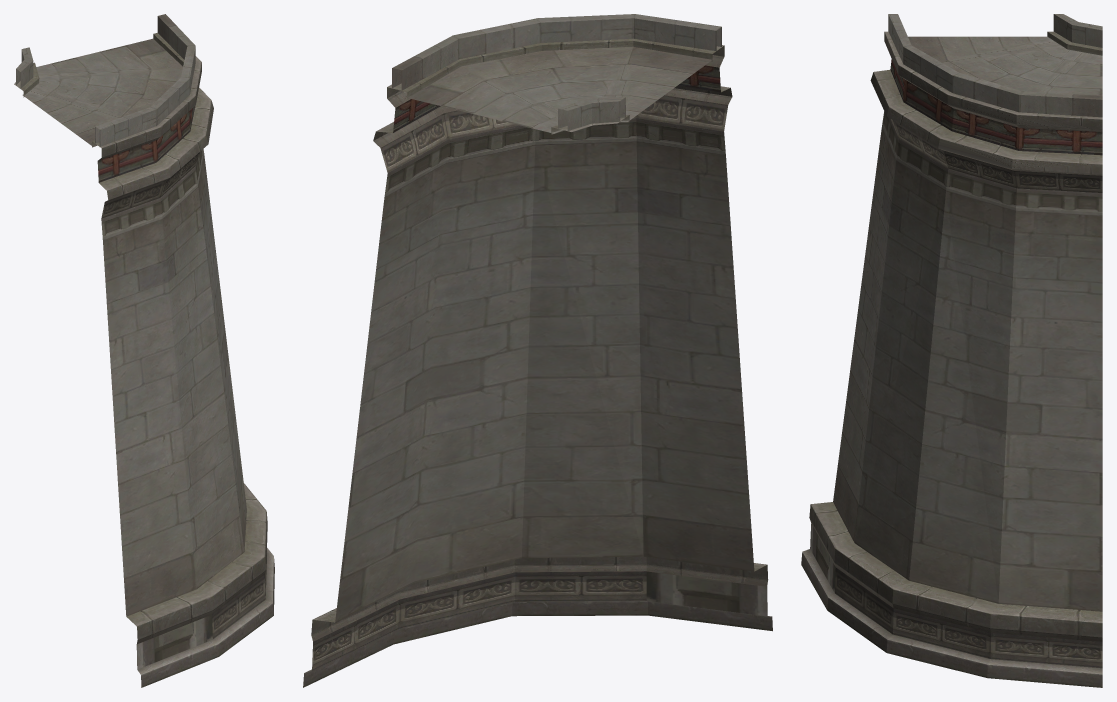
The model's file is cj_luoyang_chengqiang04_55_42_1998out.fbx.
3 renders of one model, left to right at view 1: azimuth 30°, elevation 25°; view 2: azimuth 150°, elevation 25°; view 3: azimuth 270°, elevation 25°, orthographic. The views are drawn at different scales.
Parts seen in each view (by area): view 1: cj_luoyang_chengqiang04; view 2: cj_luoyang_chengqiang04; view 3: cj_luoyang_chengqiang04.
Boxes of the visible parts, <box> form: cj_luoyang_chengqiang04: <box>14,14,274,687</box>; cj_luoyang_chengqiang04: <box>303,14,772,687</box>; cj_luoyang_chengqiang04: <box>801,14,1102,687</box>.
Size of the model in its own units: 2.5 by 5.21 by 2.58.
